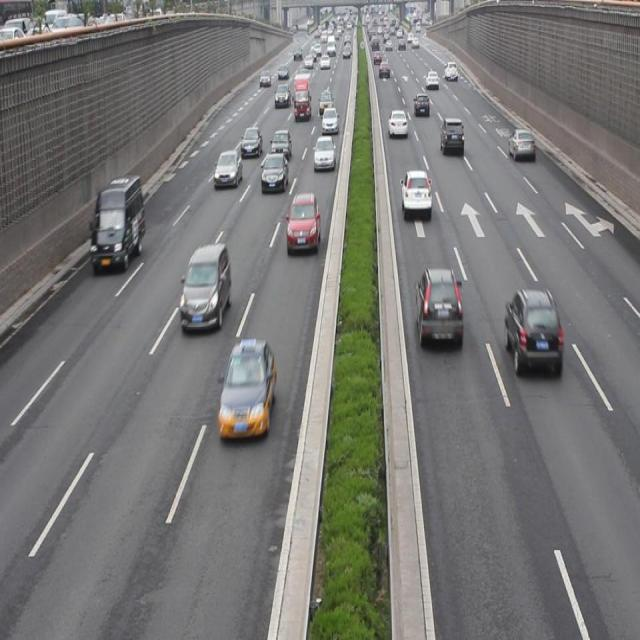car: (217, 338, 276, 436), (504, 288, 561, 375), (415, 265, 462, 347), (286, 190, 320, 253), (400, 169, 432, 216), (261, 150, 288, 191), (214, 149, 242, 188), (439, 116, 464, 157), (508, 128, 536, 164), (313, 134, 335, 171), (271, 128, 292, 159), (387, 106, 407, 138), (241, 126, 261, 158), (320, 107, 338, 134), (414, 91, 430, 115)
truck: (91, 173, 145, 270), (179, 244, 231, 332)
